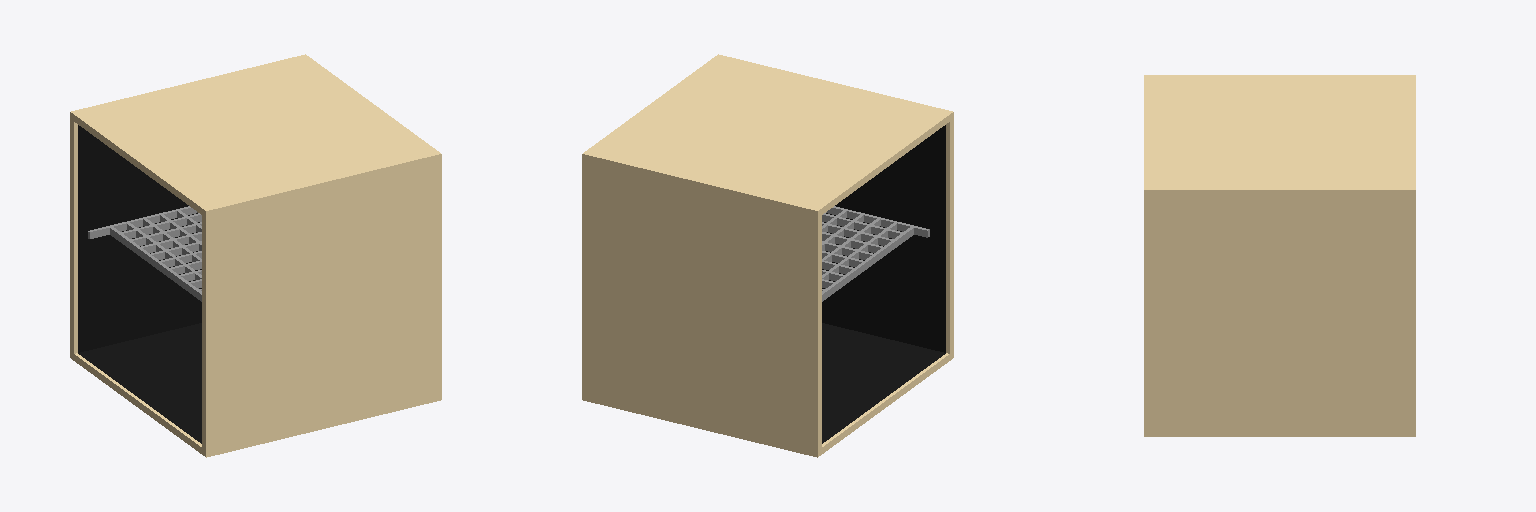
3 renders of one model, left to right at view 1: azimuth 30°, elevation 25°; view 2: azimuth 150°, elevation 25°; view 3: azimuth 270°, elevation 25°, orthographic.
Visible parts, largest first — view 1: object 1; view 2: object 1; view 3: object 1.
Boxes of the visible parts, box(x1,y1,x2,y2) form: object 1: box(70, 54, 441, 457); object 1: box(582, 54, 953, 457); object 1: box(1144, 75, 1415, 436).
Size of the model in its own units: 7 by 7 by 7.
1 materials, 1 textured.